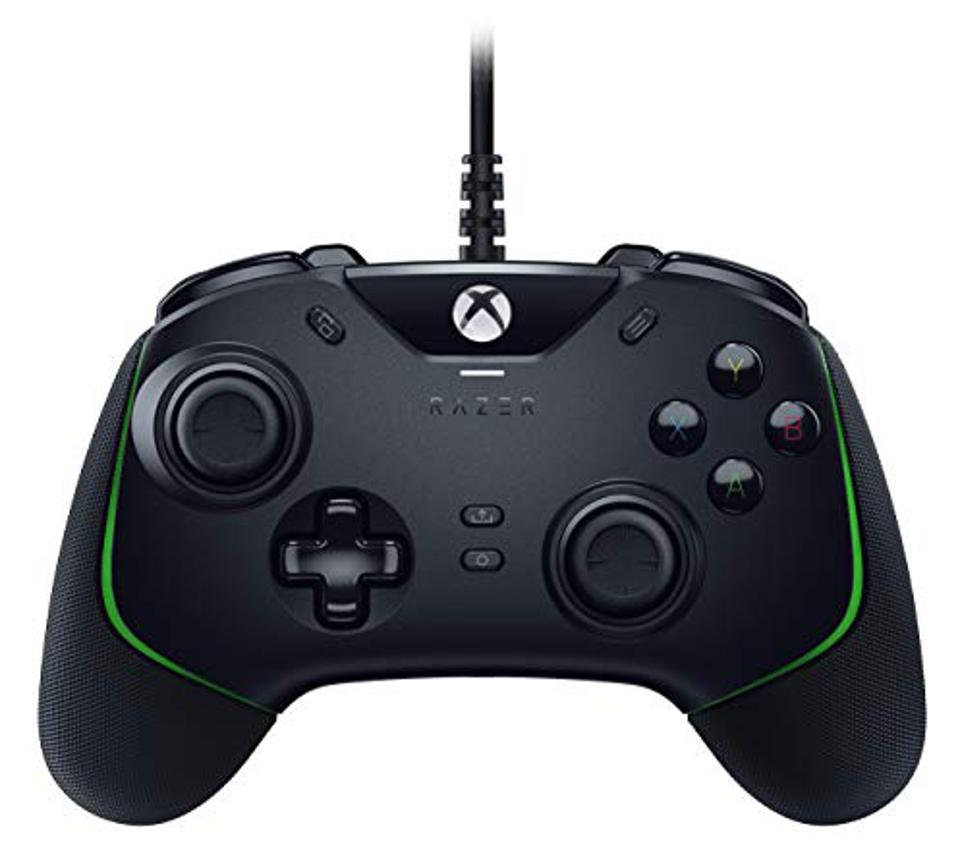controller: (38, 242, 925, 828)
